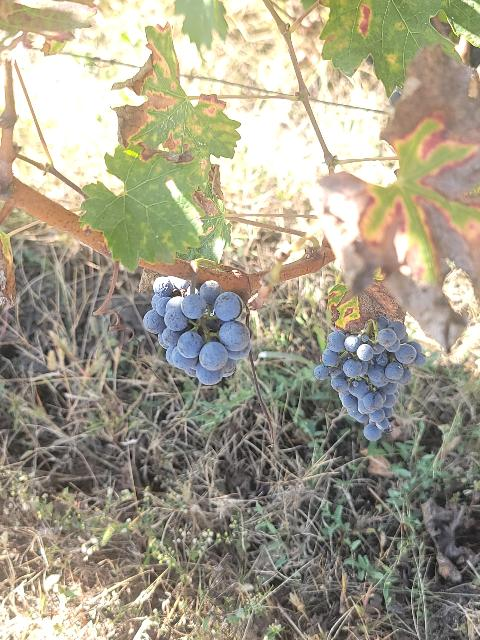grapes: (314, 316, 425, 441), (142, 276, 251, 385)
